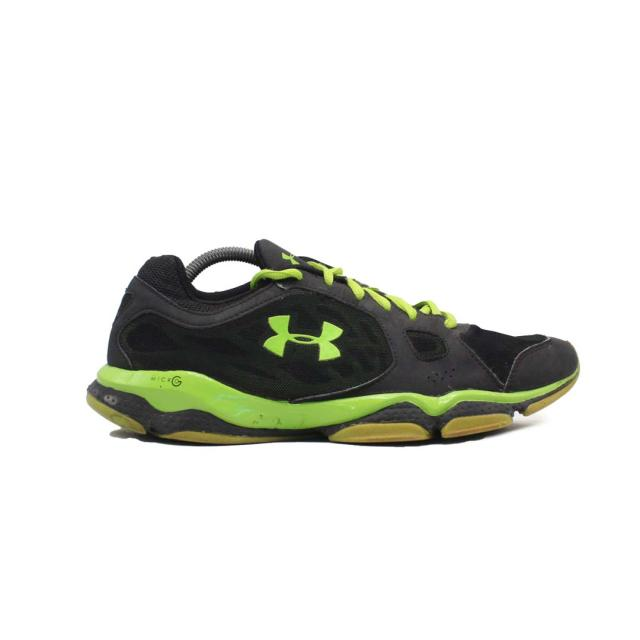heel: (93, 216, 172, 369)
midsole: (81, 367, 574, 446)
uppersole: (172, 238, 584, 391)
